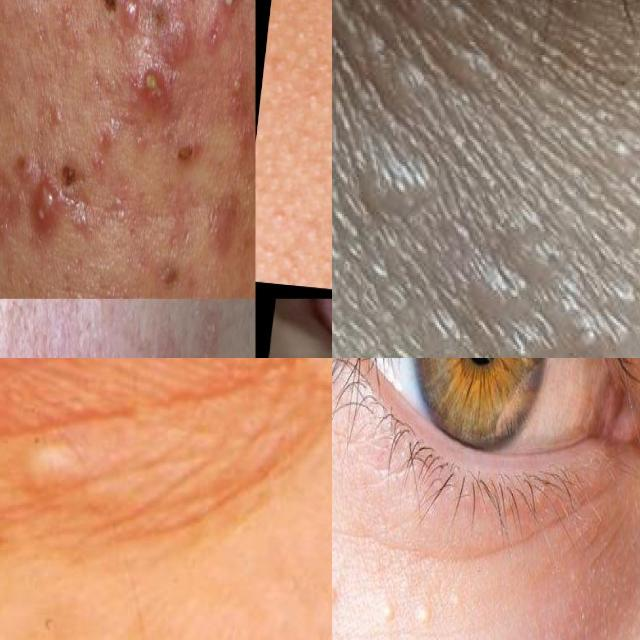comedone: (267, 172, 299, 227), (300, 84, 328, 110)
milium: (565, 309, 640, 358), (369, 592, 443, 640)
papule: (155, 0, 195, 59), (115, 0, 145, 44)
pustule: (229, 47, 256, 104), (215, 0, 248, 27)
sebo-crystan-conglo: (127, 54, 181, 118), (28, 160, 61, 241)
syringoma: (332, 0, 570, 146), (468, 218, 635, 318), (352, 146, 472, 238), (3, 427, 130, 504)
